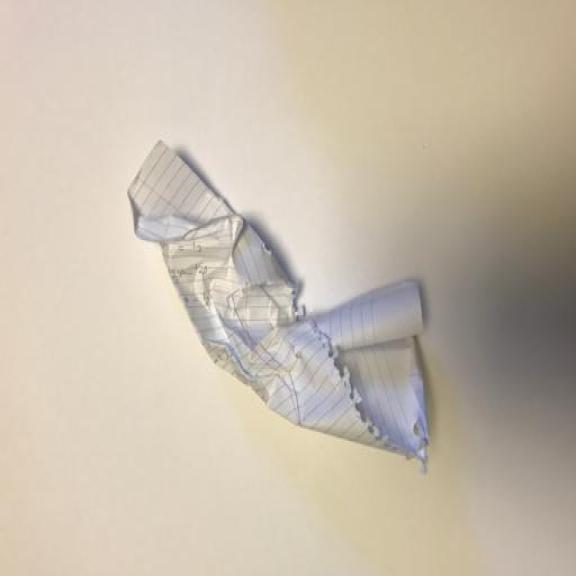Kertas: (123, 130, 433, 491)
